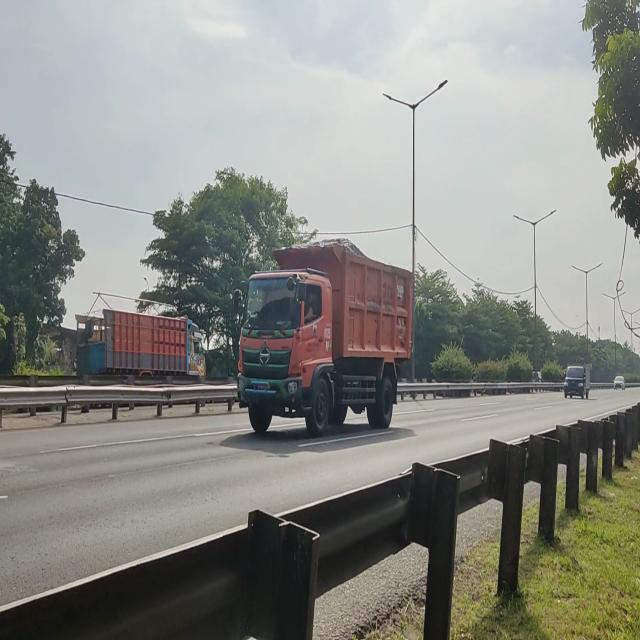Golongan II: (234, 245, 412, 443)
